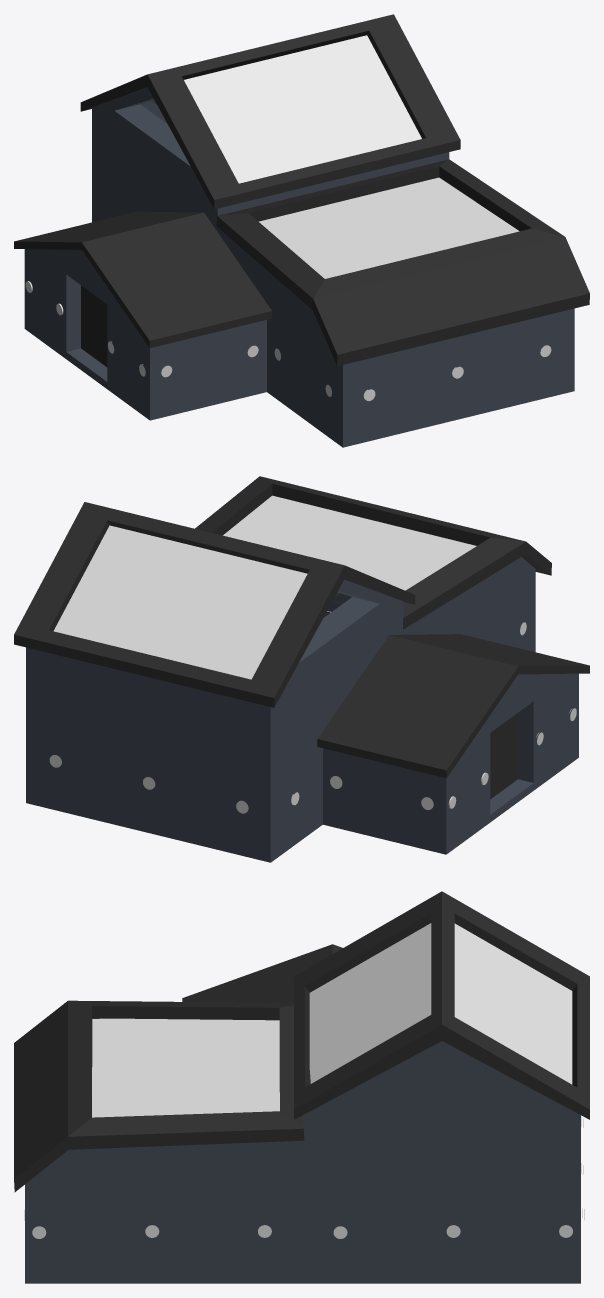
File: houseone.fbx
The picture shows the model from 3 angles, top to bottom: view 1: azimuth 30°, elevation 25°; view 2: azimuth 150°, elevation 25°; view 3: azimuth 270°, elevation 25°; orthographic projection. The views are drawn at different scales.
Parts seen in each view (by area): view 1: Cube, Cube.002, Cube.006, Cube.001, Cube.003, Cube.005, Cube.004; view 2: Cube, Cube.007, Cube.001, Cube.003, Cube.005, Cube.002, Cube.004; view 3: Cube, Cube.002, Cube.003, Cube.005, Cube.006, Cube.007, Cube.001.
Part boxes in pixels (<box>): Cube: <box>24,88,574,447</box>; Cube.002: <box>216,159,589,366</box>; Cube.006: <box>184,35,421,183</box>; Cube.001: <box>14,211,271,347</box>; Cube.003: <box>80,14,460,209</box>; Cube.005: <box>259,177,519,278</box>; Cube.004: <box>81,285,107,366</box>; Cube: <box>26,557,578,862</box>; Cube.007: <box>53,525,307,679</box>; Cube.001: <box>317,616,589,778</box>; Cube.003: <box>14,502,415,707</box>; Cube.005: <box>223,495,476,612</box>; Cube.002: <box>195,476,551,629</box>; Cube.004: <box>490,713,517,799</box>; Cube: <box>25,1018,580,1283</box>; Cube.002: <box>14,1000,304,1192</box>; Cube.003: <box>294,891,589,1119</box>; Cube.005: <box>92,1018,279,1117</box>; Cube.006: <box>309,923,431,1083</box>; Cube.007: <box>454,923,572,1084</box>; Cube.001: <box>182,944,342,1002</box>.
Size of the model in its own units: 1329 by 827 by 1641.
